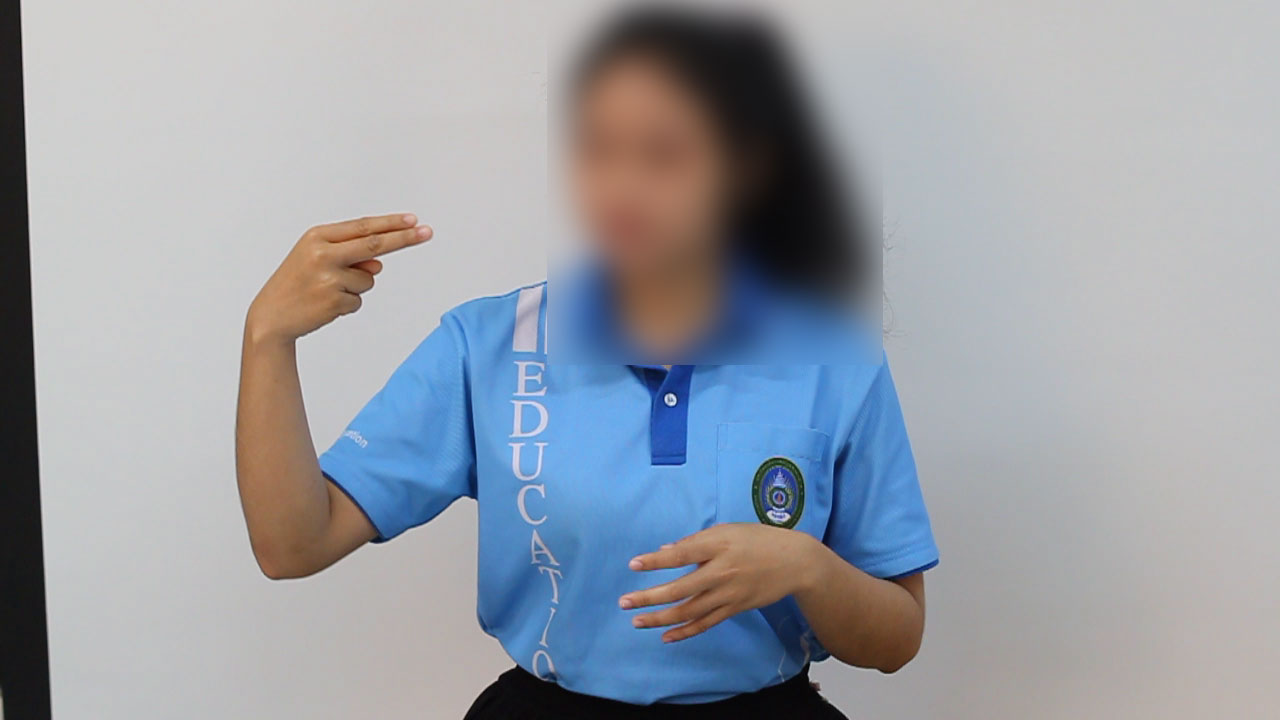hor: (208, 205, 455, 346)
